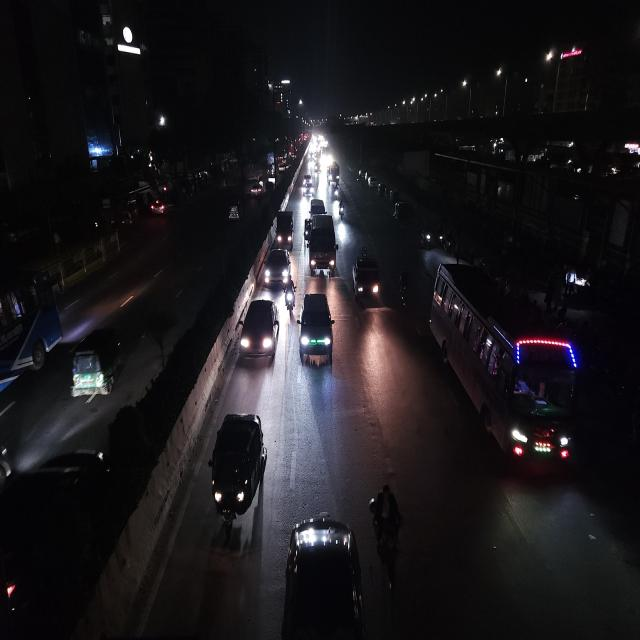bus: (426, 257, 580, 471), (0, 264, 63, 394), (326, 161, 340, 184)
car: (237, 294, 281, 367), (297, 288, 335, 371), (303, 212, 339, 278), (261, 243, 293, 288), (310, 196, 326, 216), (249, 178, 264, 199), (366, 174, 378, 188), (302, 183, 314, 196)
cng: (207, 409, 270, 538), (70, 324, 126, 401), (227, 195, 243, 227)
motorcycle: (366, 477, 409, 592), (396, 267, 411, 310), (283, 275, 297, 317), (338, 198, 348, 226), (332, 180, 341, 202)
pickup_van: (353, 246, 384, 306)
truck: (275, 211, 295, 247)
